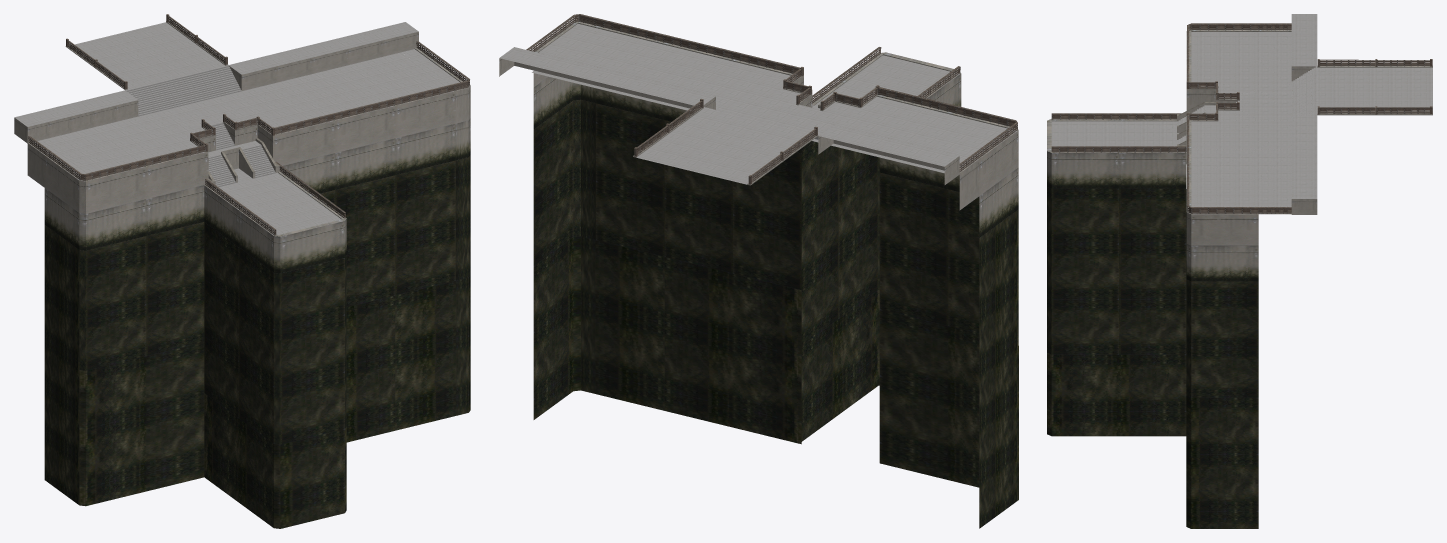
Rendered from vegass_jetty01.obj.
The picture shows the model from 3 angles, left to right: view 1: azimuth 30°, elevation 25°; view 2: azimuth 150°, elevation 25°; view 3: azimuth 270°, elevation 25°; orthographic projection. The views are drawn at different scales.
Parts seen in each view (by area): view 1: VegasS_jetty01; view 2: VegasS_jetty01; view 3: VegasS_jetty01.
Boxes of the visible parts, <box> form: VegasS_jetty01: <box>14,14,470,528</box>; VegasS_jetty01: <box>499,14,1018,528</box>; VegasS_jetty01: <box>1047,14,1432,528</box>.
Size of the model in its own units: 75.83 by 64.48 by 66.82.
Materials: 6 (6 with a texture image).
